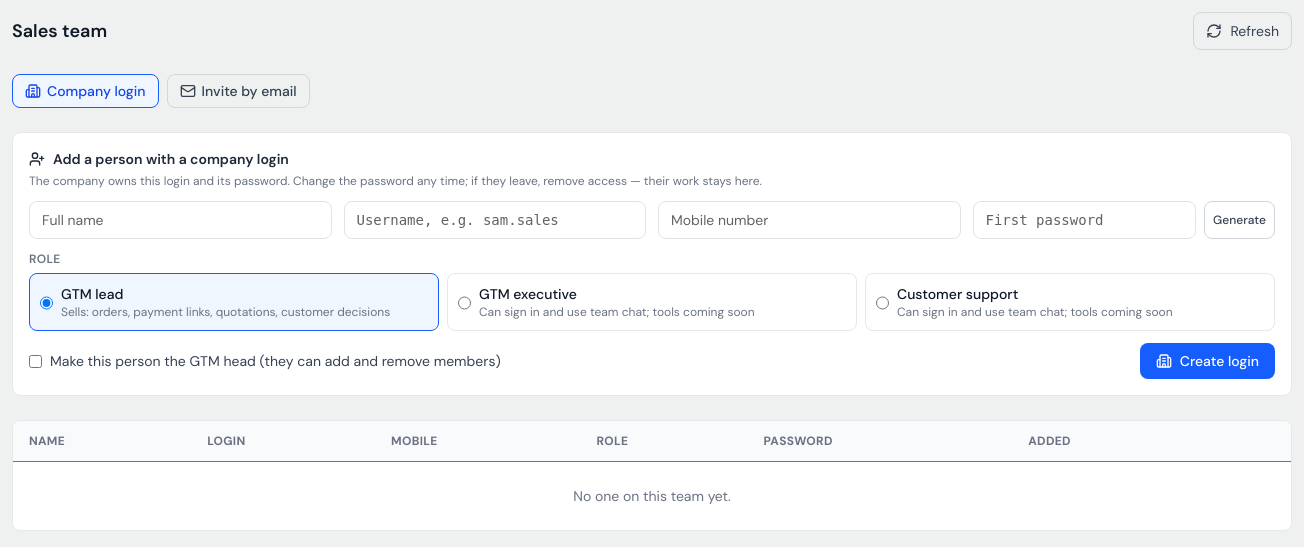
company logins › still offers an email invite
Step 1. Click the tab "Invite by email" → (238, 91), box [166,74,310,108]
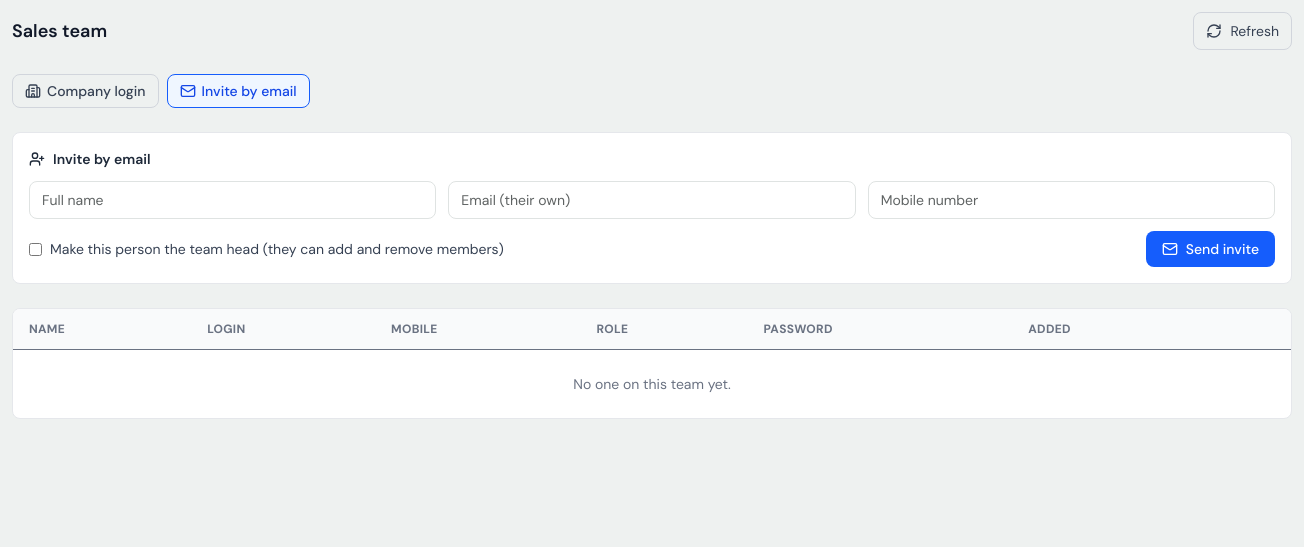
Expected: the field with placeholder "Email (their own)" is shown, [448,181,856,219]
Expected: the button "Send invite" is shown, [1146,231,1275,267]
